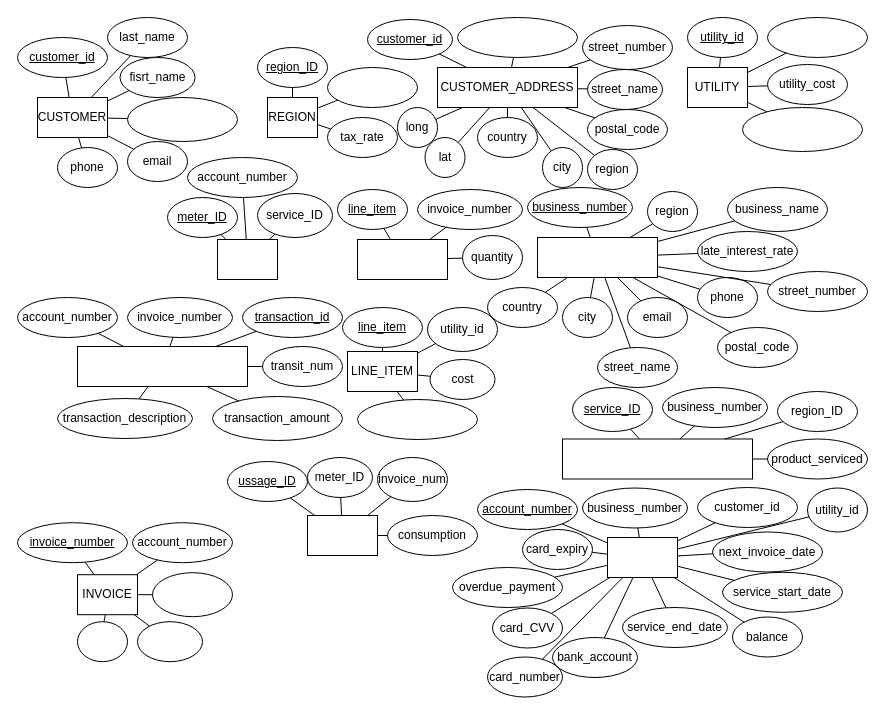
Some shapes in this 885 by 715 pixel diagram are drawn without their labels. The shapes that lost their labels are listed below. From the top down, each one's box as (x1, y1, x2, y2) in pixels, then its label:
(456, 16, 578, 58): address_description
(766, 16, 868, 58): utility_description
(326, 66, 418, 108): region_name
(126, 96, 238, 142): mailing_preference
(742, 106, 862, 152): measurement_units
(216, 238, 278, 280): METER
(356, 238, 448, 280): INVOICE_ITEM
(536, 236, 658, 278): UTILITY_PROVIDER
(76, 346, 248, 386): ACCOUNT_TRANSACTIONS
(356, 398, 478, 440): line_item_description
(562, 438, 752, 479): PROVIDER_SERVICE_REGION
(306, 514, 378, 556): USAGE
(606, 536, 678, 578): ACCOUNT
(152, 572, 232, 617): issue_date
(76, 621, 128, 662): total
(136, 621, 202, 662): due_date
